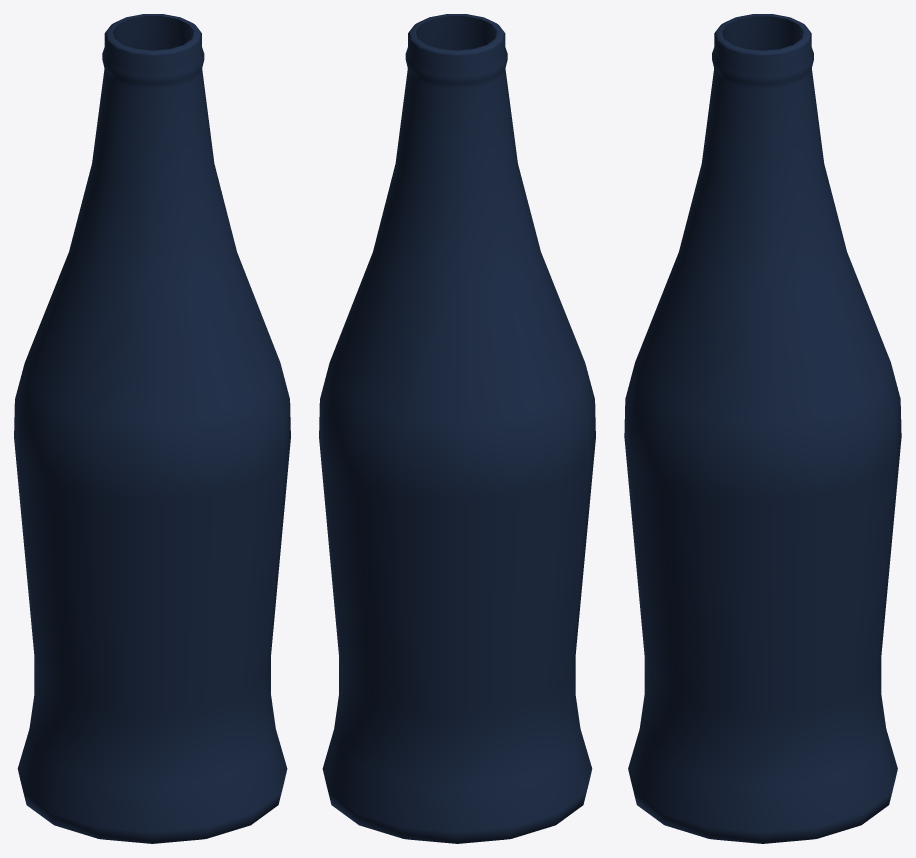
The model's file is SM_SPProps_Mesh08.FBX.
3 views of the same model, side by side, from view 1: azimuth 30°, elevation 25°; view 2: azimuth 150°, elevation 25°; view 3: azimuth 270°, elevation 25° (orthographic).
Parts seen in each view (by area): view 1: SM_SPProps_Mesh08_LOD0; view 2: SM_SPProps_Mesh08_LOD0; view 3: SM_SPProps_Mesh08_LOD0.
Part boxes in pixels (<box>): SM_SPProps_Mesh08_LOD0: <box>14,14,290,843</box>; SM_SPProps_Mesh08_LOD0: <box>319,14,595,843</box>; SM_SPProps_Mesh08_LOD0: <box>624,14,901,843</box>.
Size of what is drawn, in the model's own units: 7.33 by 7.37 by 22.31.
